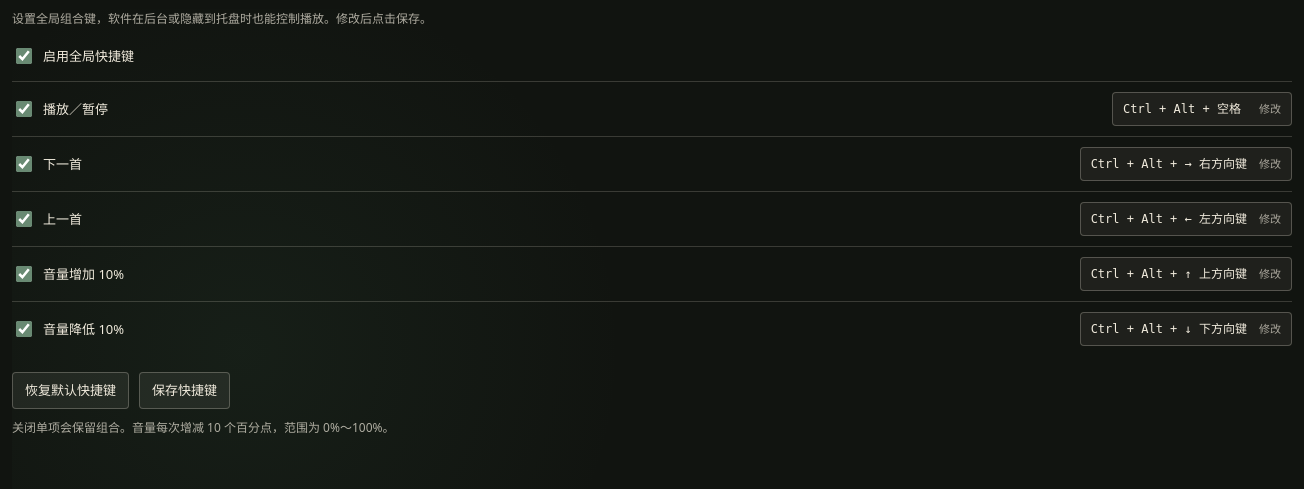
Test: master switch saves disabled state while retaining each configured combination
The width and height of the screenshot is (1304, 489).
expect the button "保存快捷键" is enabled: met, box [139,372,230,409]
Click the checkbox labelled "启用全局快捷键" at [24, 56], box [16,48,32,64]
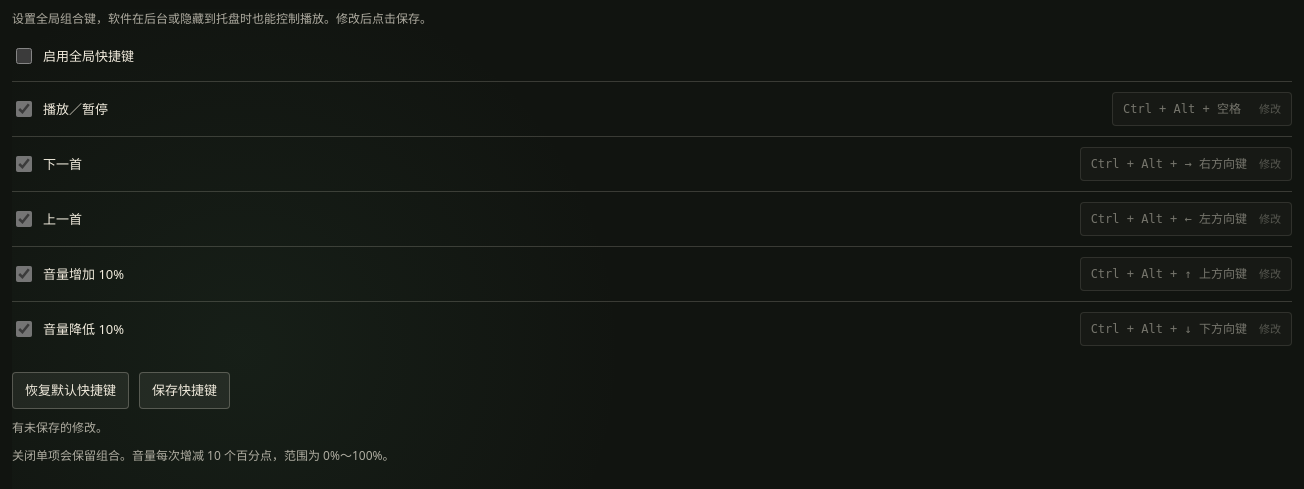
expect the checkbox named "启用下一首快捷键" is disabled: met, box [16,156,32,172]
Click the button "保存快捷键" at [184, 391], box [139,372,230,409]
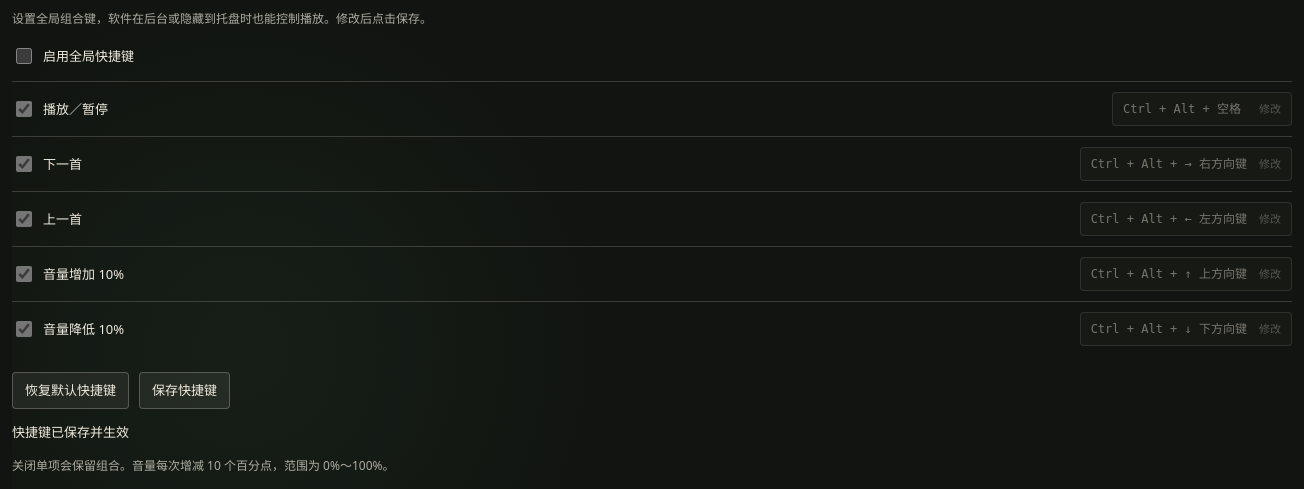
expect the text "快捷键已保存并生效" is shown: met, box [12,423,129,441]
